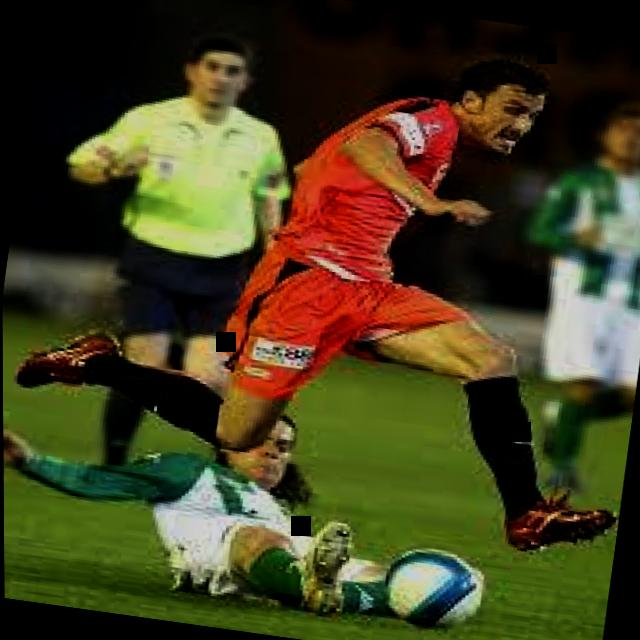Fall-Detected: (2, 362, 478, 639)
